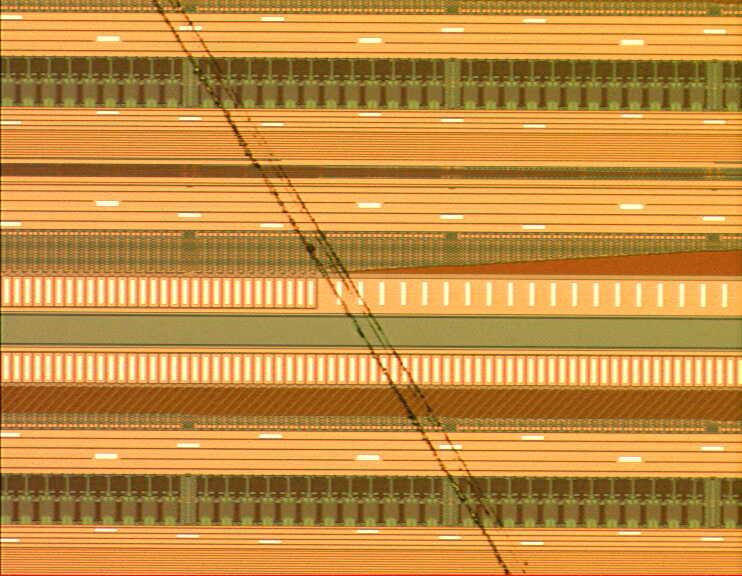SCRATCH: (145, 1, 565, 576)
